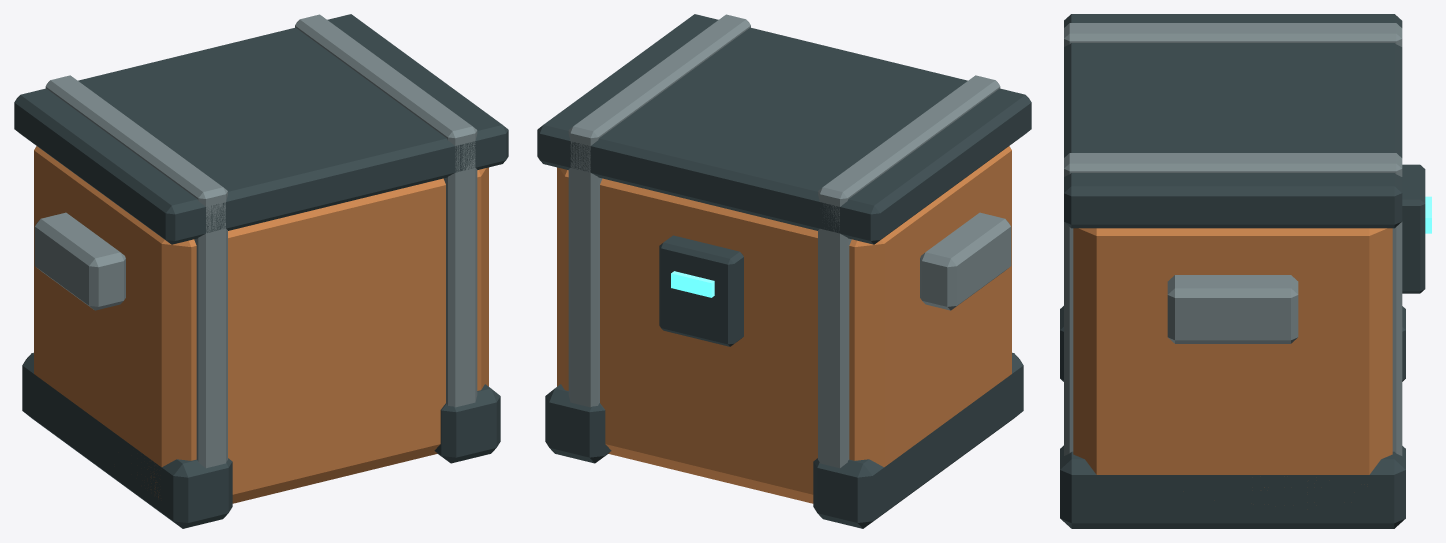
Rendered from cargo_crate.glb.
3 views of the same model, side by side, from view 1: azimuth 30°, elevation 25°; view 2: azimuth 150°, elevation 25°; view 3: azimuth 270°, elevation 25° (orthographic). The views are drawn at different scales.
Visible parts, largest first — view 1: cargo_crate_Surface; view 2: cargo_crate_Surface; view 3: cargo_crate_Surface.
Boxes of the visible parts, x1=… form: cargo_crate_Surface: x1=14, y1=14, x2=508, y2=528; cargo_crate_Surface: x1=537, y1=14, x2=1031, y2=528; cargo_crate_Surface: x1=1060, y1=14, x2=1431, y2=528.
Size of the model in its own units: 1.28 by 1.02 by 0.9675.
1 material, 1 textured.
